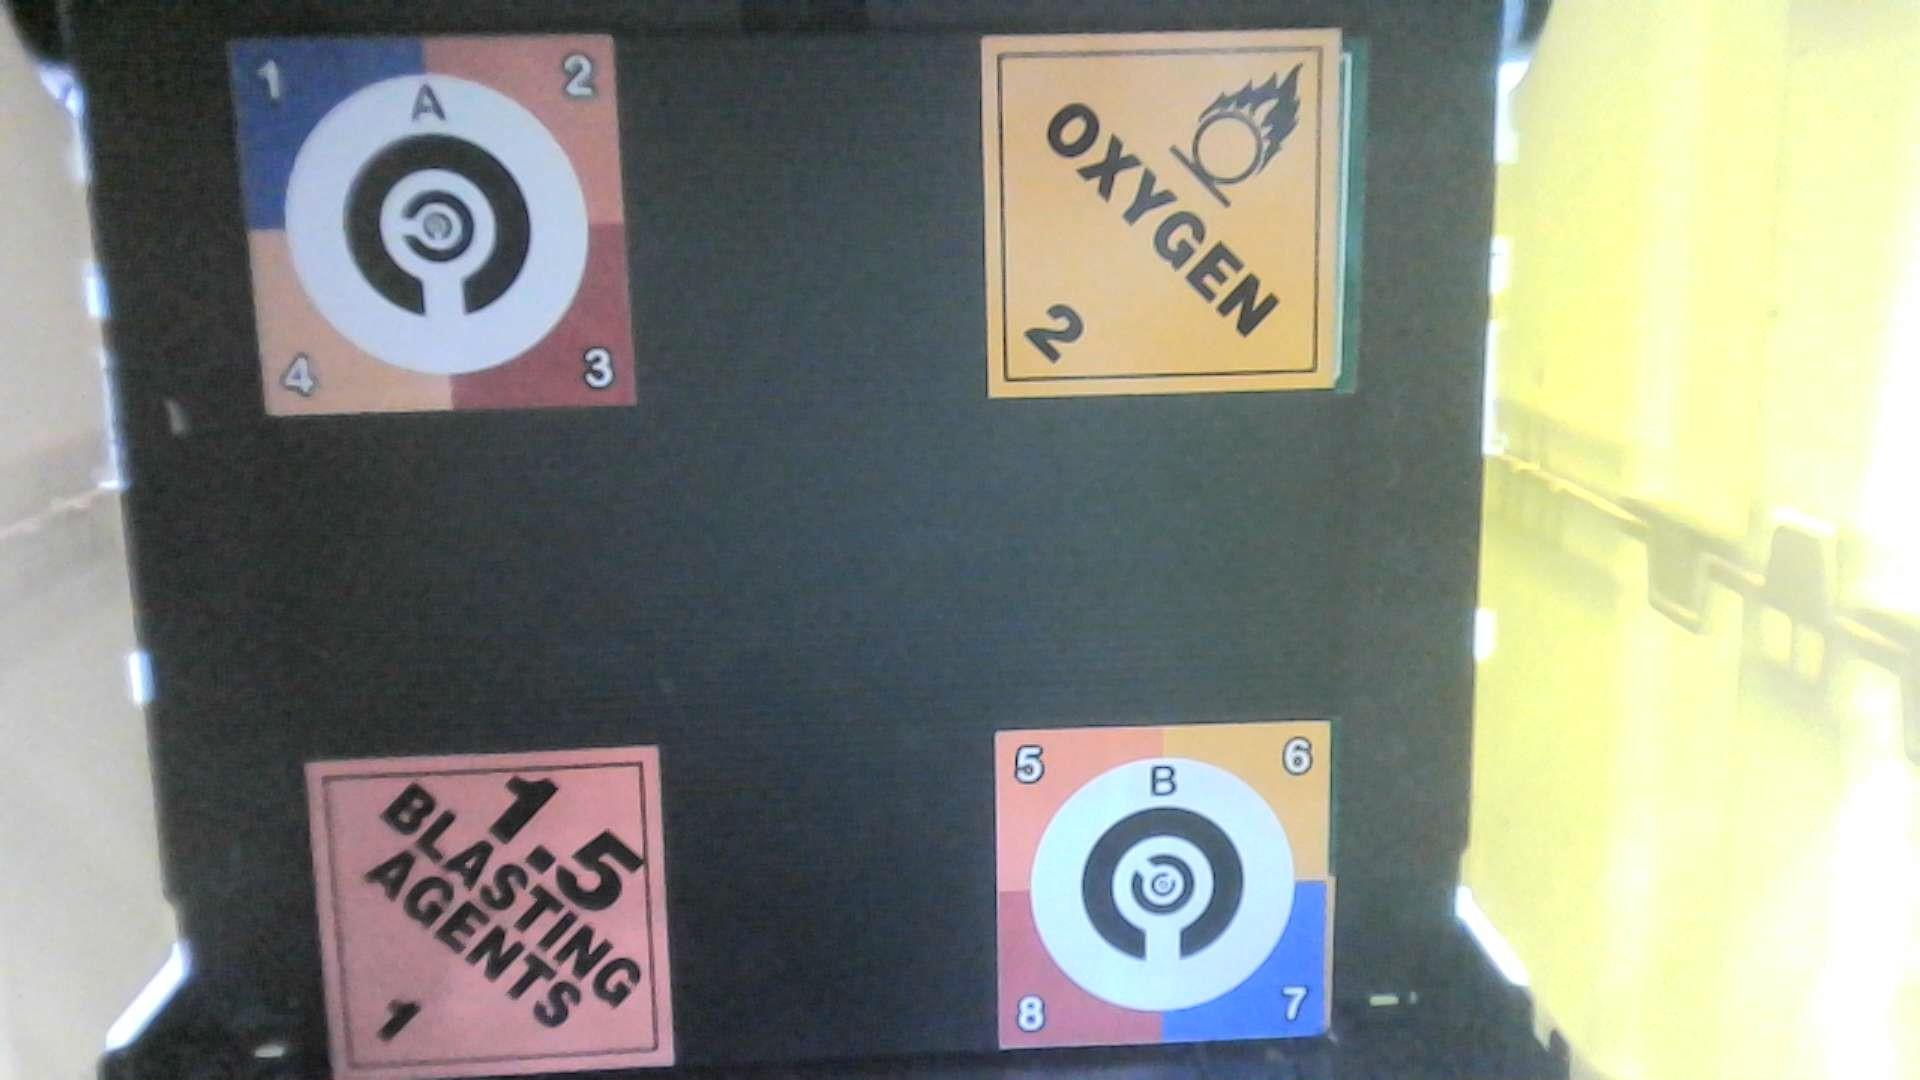explosive: (305, 757, 686, 1080)
oxidizer: (981, 37, 1350, 407)
